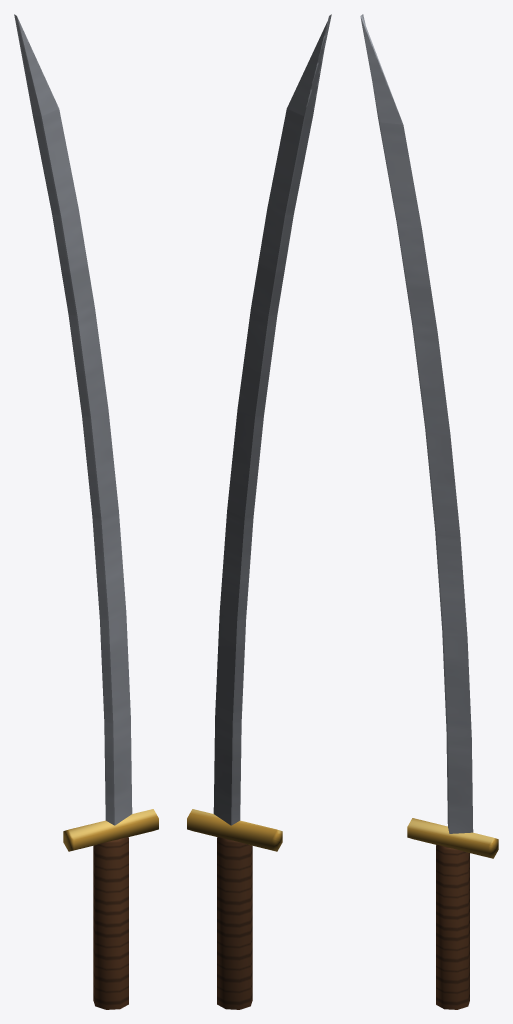
File: sabre.glb
The picture shows the model from 3 angles, left to right: view 1: azimuth 30°, elevation 25°; view 2: azimuth 150°, elevation 25°; view 3: azimuth 330°, elevation 25°; orthographic projection. The views are drawn at different scales.
Visible parts, largest first — view 1: sabre; view 2: sabre; view 3: sabre.
Part boxes in pixels (x1=…): sabre: x1=14, y1=14, x2=158, y2=1009; sabre: x1=187, y1=14, x2=331, y2=1009; sabre: x1=360, y1=14, x2=498, y2=1009.
Size of the model in its own units: 0.13 by 0.91 by 0.03.
1 material, 1 textured.
